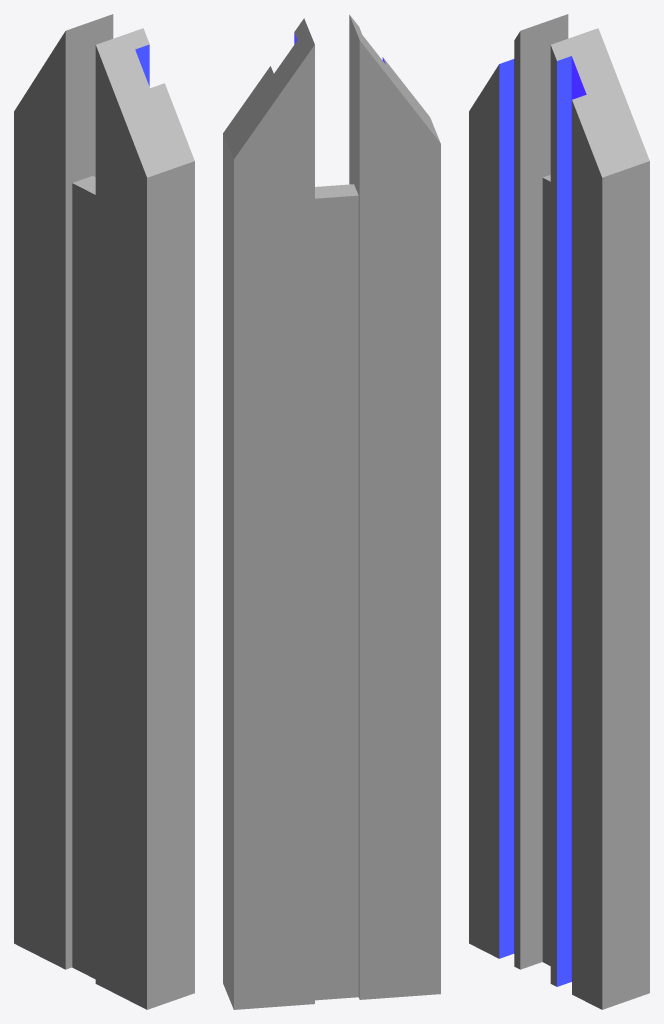
File: mbill1.fbx
3 renders of one model, left to right at view 1: azimuth 90°, elevation 25°; view 2: azimuth 150°, elevation 25°; view 3: azimuth 270°, elevation 25°, orthographic. The views are drawn at different scales.
Visible parts, largest first — view 1: polySurface111; view 2: polySurface111; view 3: polySurface111.
Part boxes in pixels (x1,y1,x2,y2): polySurface111: [14, 14, 194, 1009]; polySurface111: [223, 14, 440, 1009]; polySurface111: [469, 14, 649, 1009].
Bounding box in the file's own units: 431 × 2269 × 396.
